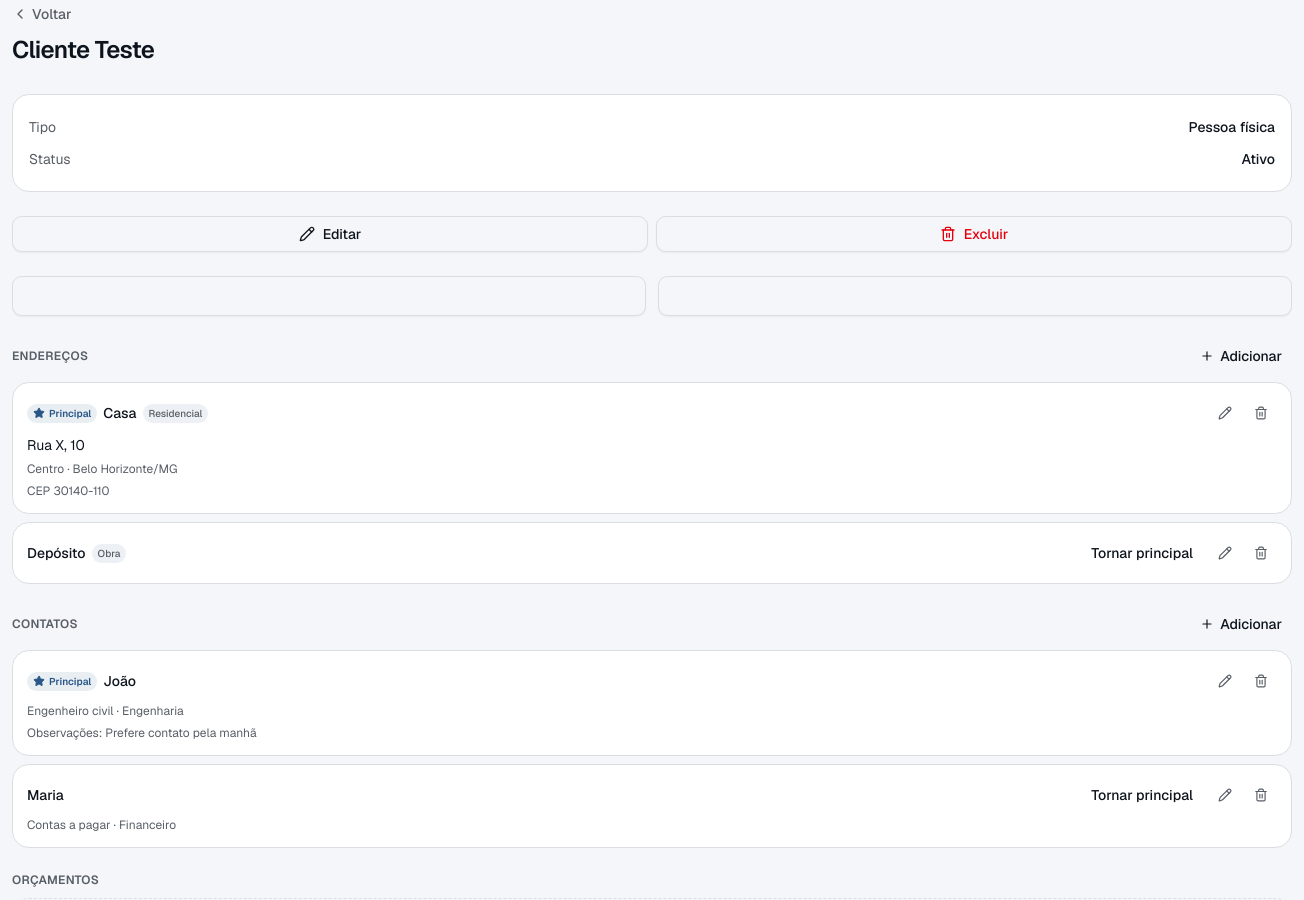
Test: CustomerDetail › shows an error message when 'Tornar principal' fails for a contact
Expected: the text "Maria" is shown, [27, 785, 64, 805]
Click the button "Tornar principal" in the row of "Maria". click: (1142, 795)
box: [1079, 779, 1205, 811]
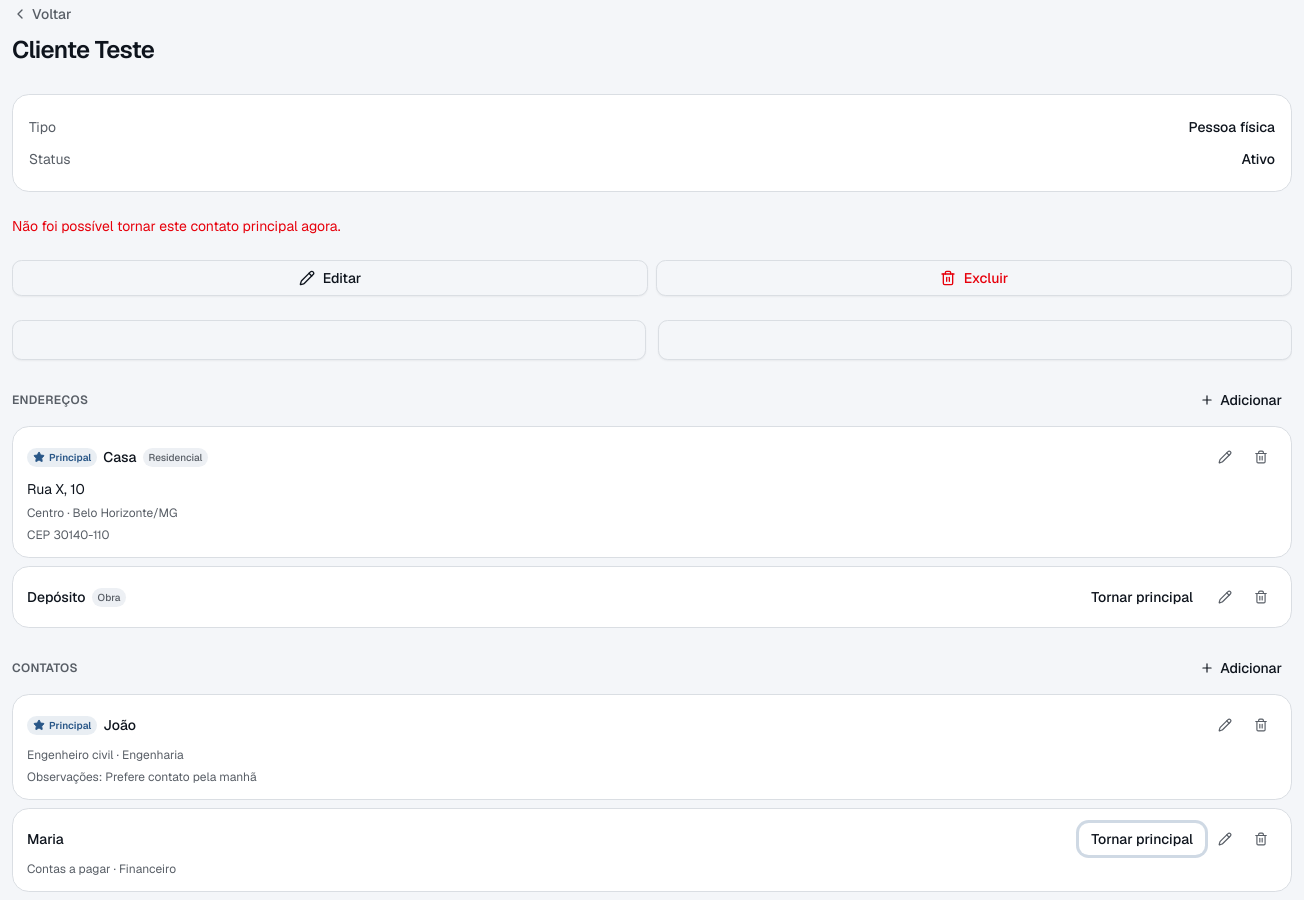
Result: the text "Não foi possível tornar este contato principal agora." is shown at [12, 217, 341, 235]
